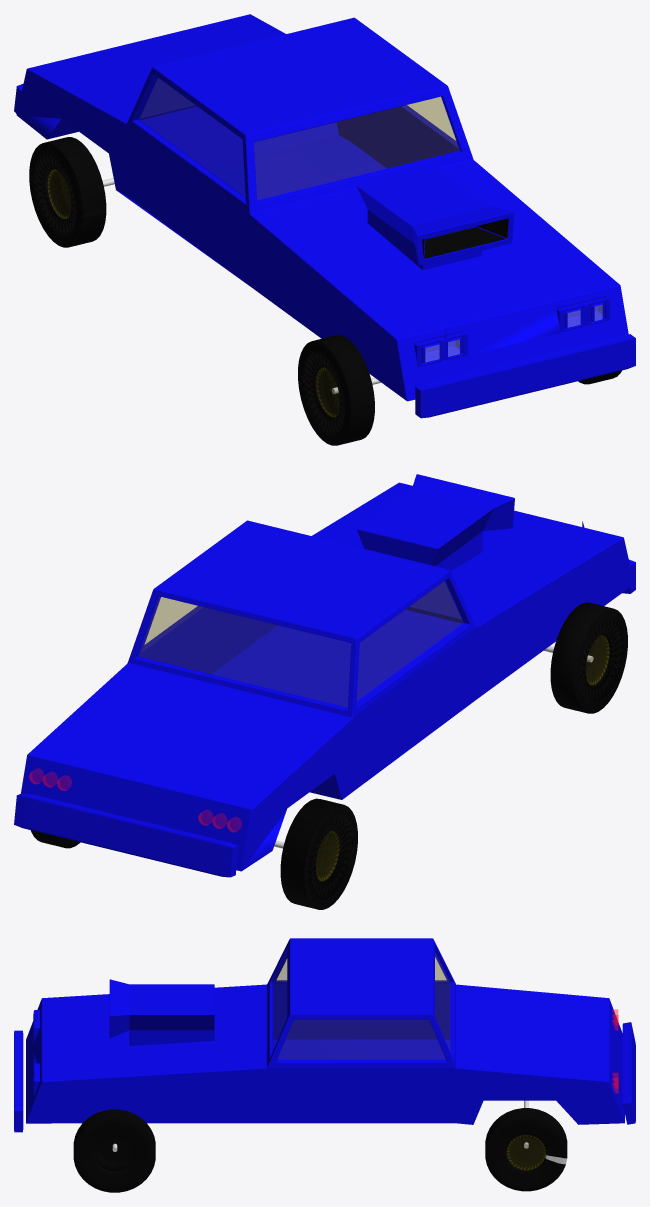
File: sedan.glb
The picture shows the model from 3 angles, top to bottom: view 1: azimuth 30°, elevation 25°; view 2: azimuth 150°, elevation 25°; view 3: azimuth 270°, elevation 25°; orthographic projection. The views are drawn at different scales.
Visible parts, largest first — view 1: body, RightRearTire, RightFrontTire; view 2: body, RightFrontTire, RightRearTire; view 3: body, LeftRearTire, LeftFrontTire.
Part boxes in pixels (left/top/right/bottom): body: left=14, top=14, right=635, bottom=418; RightRearTire: left=29, top=137, right=106, bottom=247; RightFrontTire: left=298, top=335, right=374, bottom=445; body: left=14, top=474, right=635, bottom=877; RightFrontTire: left=550, top=602, right=627, bottom=713; RightRearTire: left=280, top=798, right=357, bottom=909; body: left=14, top=938, right=635, bottom=1151; LeftRearTire: left=485, top=1108, right=567, bottom=1191; LeftFrontTire: left=73, top=1109, right=155, bottom=1192.
Size of the model in its own units: 2.24 by 1.66 by 5.67.
